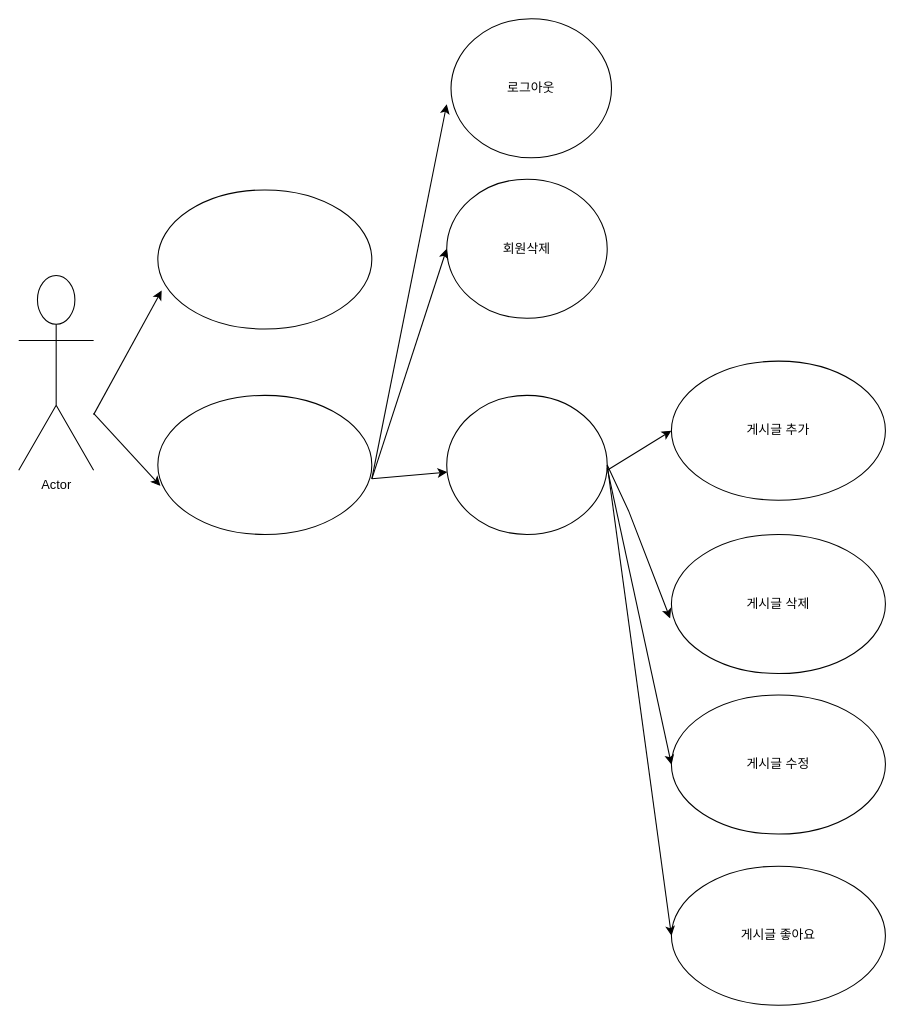
The diagram is 904 pixels wide and 1024 high, and some of its shapes have lost their labels. The centre of each missing label's shape, as x and y in pixels:
"게시판" belongs at (526,464).
"로그인" belongs at (264,464).
"회원가입" belongs at (264,259).
